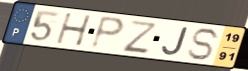5: (29, 9, 62, 43)
H: (54, 12, 93, 48)
J: (160, 25, 191, 57)
P: (88, 14, 128, 51)
S: (185, 27, 223, 62)
Z: (121, 18, 158, 54)
